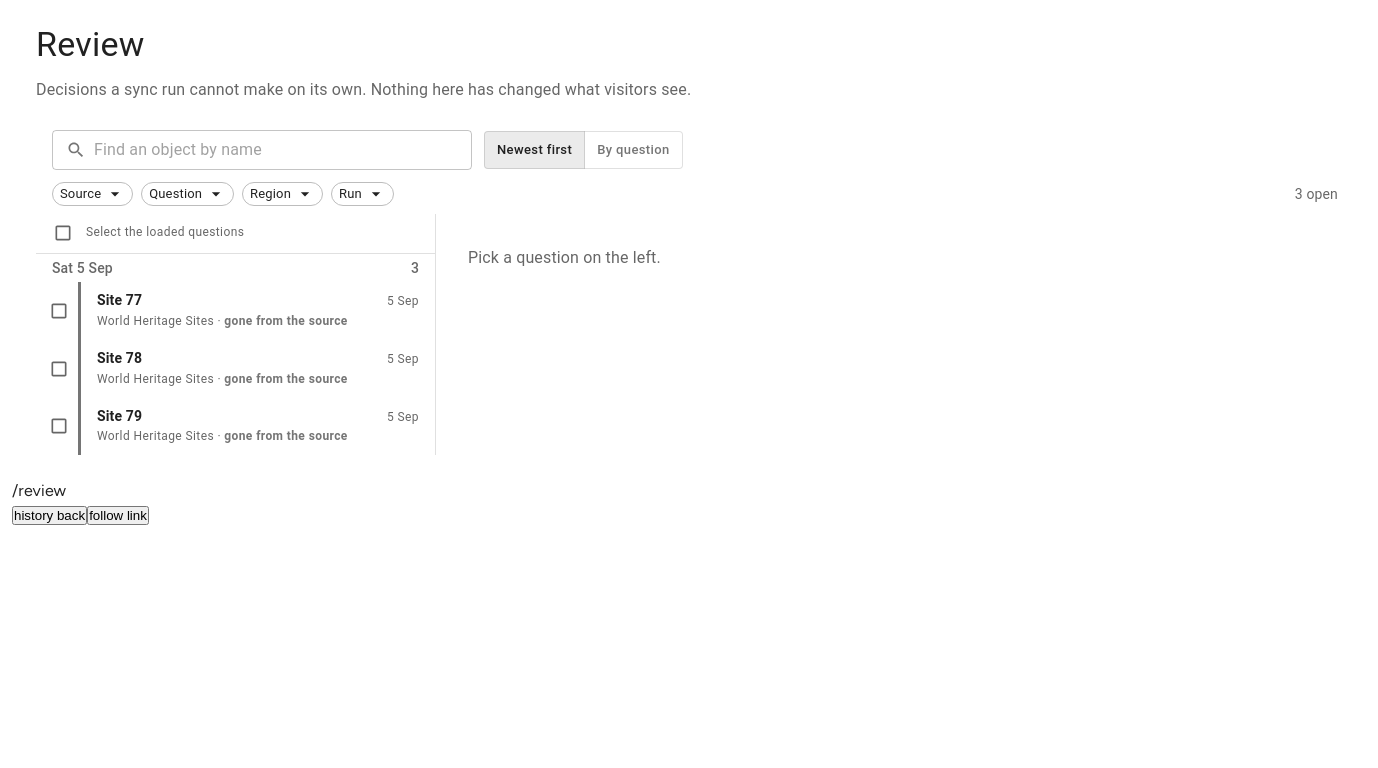
Test case: ReviewPage › moves to the question that took the answered one’s place, not back to the top
Click the button "Site 78 5 Sep World Heritage Sites · gone from the source" at (256, 369), box [78,340,435,398]
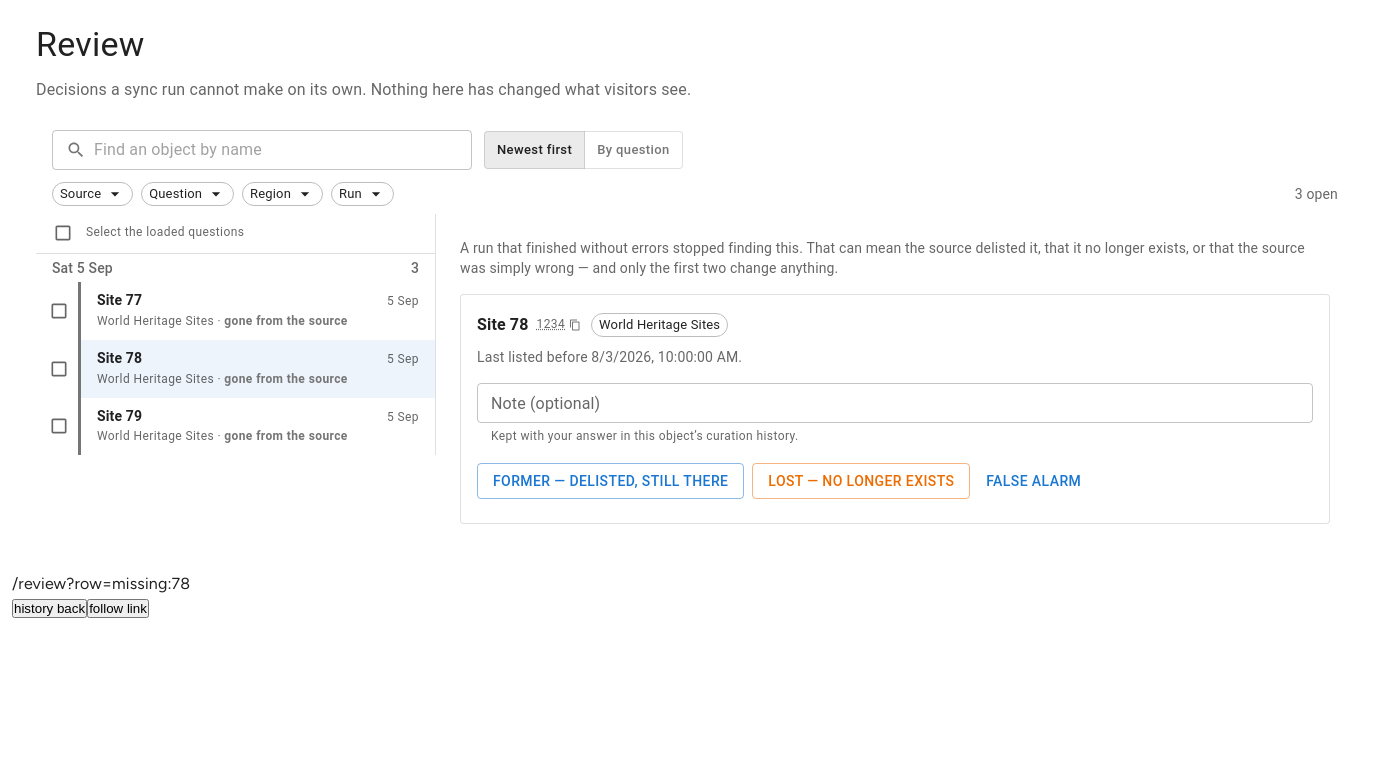
Click the button "Former — delisted, still there" at (611, 481), box [477,463,744,499]
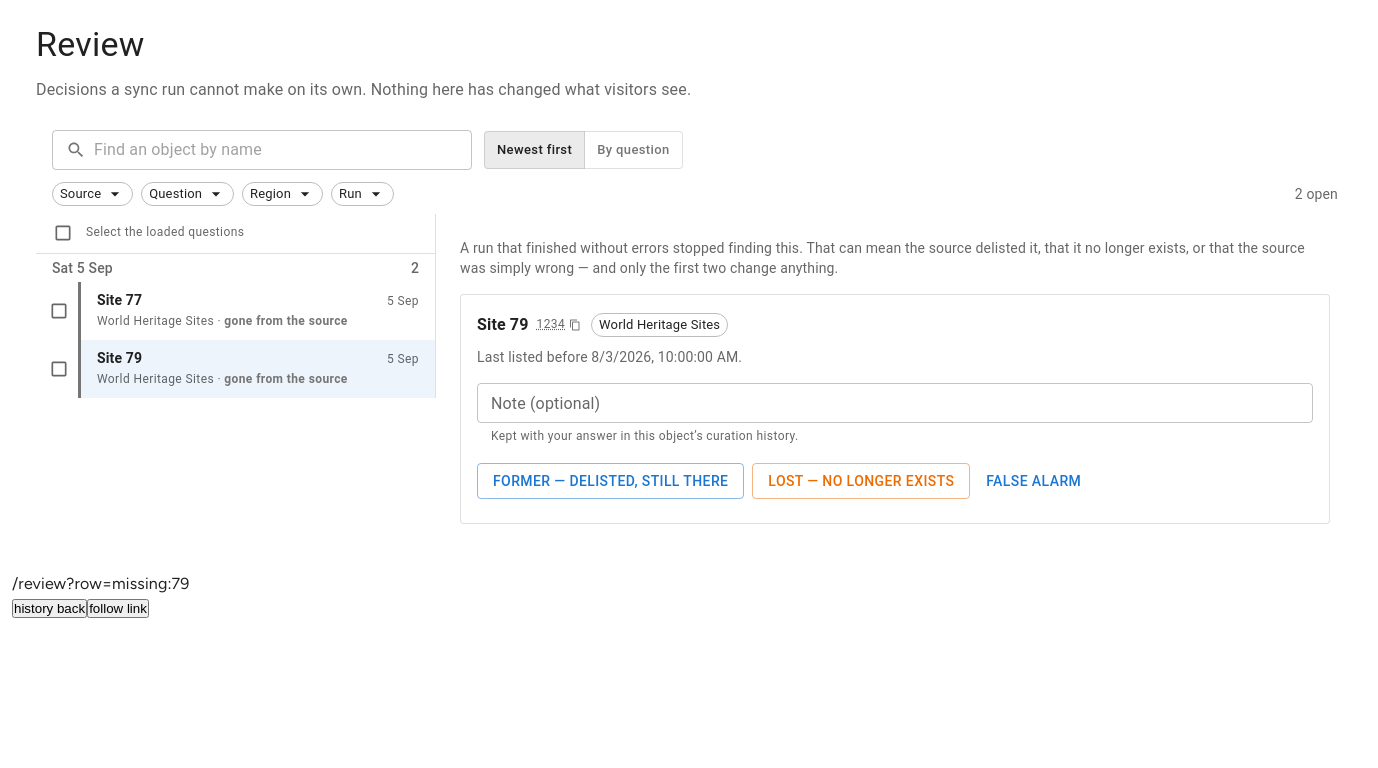
Result: the heading "Site 79" is shown at [477,311,528,339]
Result: the text with test id "address" reads "/review?row=missing:79" at [12,574,190,593]
